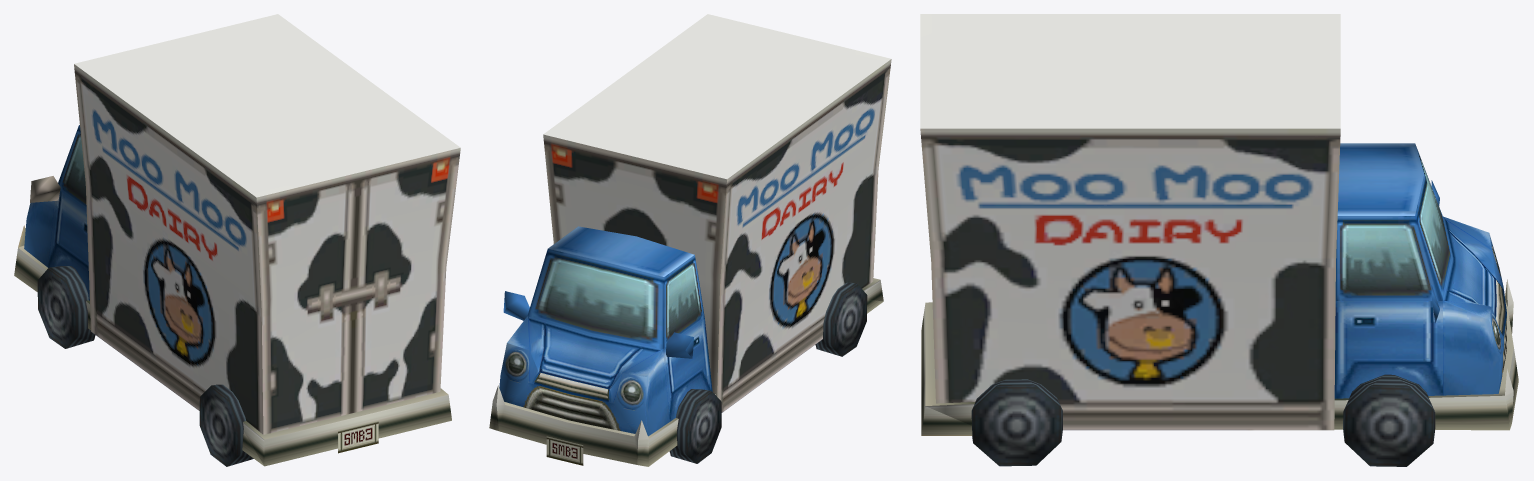
File: ktruck_lo.glb
3 renders of one model, left to right at view 1: azimuth 30°, elevation 25°; view 2: azimuth 150°, elevation 25°; view 3: azimuth 270°, elevation 25°, orthographic. The views are drawn at different scales.
Visible parts, largest first — view 1: body, wheel_rl; view 2: body; view 3: body, wheel_rr, wheel_fr.
Boxes of the visible parts, <box> form: body: <box>14,14,460,466</box>; wheel_rl: <box>200,426,263,465</box>; body: <box>489,14,891,466</box>; body: <box>920,14,1518,466</box>; wheel_rr: <box>921,406,1016,465</box>; wheel_fr: <box>1344,409,1388,465</box>.
Bounding box in the file's own units: 1.58 × 2.15 × 3.39.
Materials: 1 (1 with a texture image).
